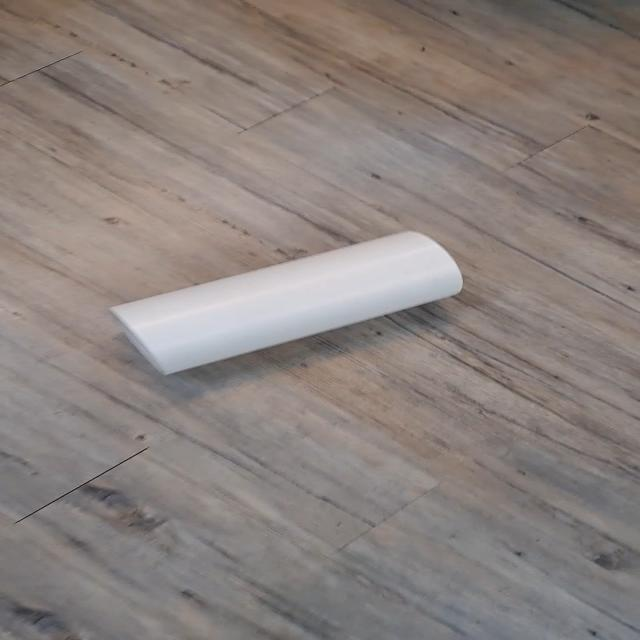CORAL: (114, 227, 468, 396)
